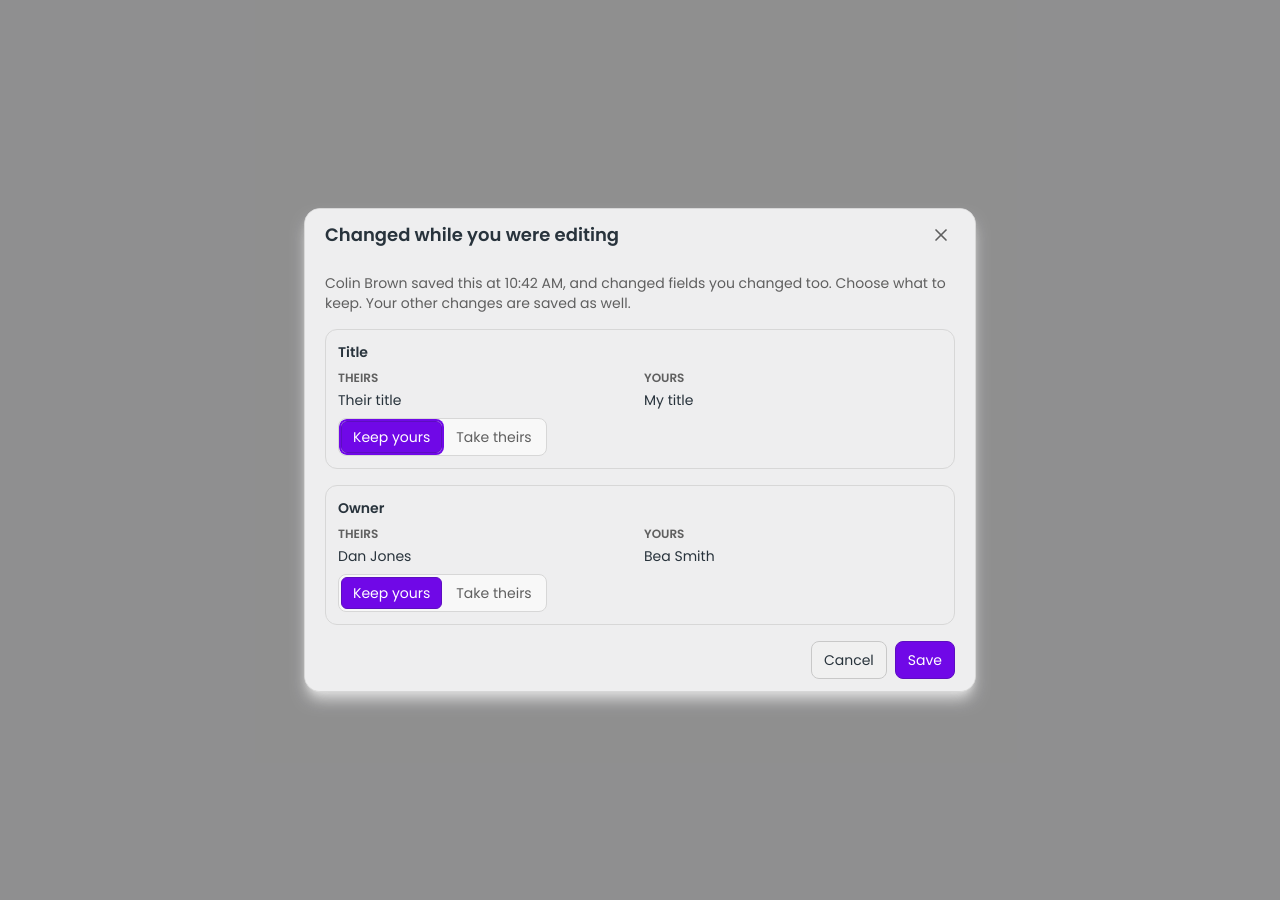
Test: EditConflictHost › asks per clashing field and saves what the person keeps
Expected: the text with test id "theirs-title" reads "Their title", [338, 390, 401, 410]
Expected: the text with test id "mine-title" reads "My title", [644, 390, 693, 410]
take theirs for the owner only
Click the radio button labelled "Take theirs" below "Dan Jones".
click(494, 593)  # box [444, 577, 544, 609]
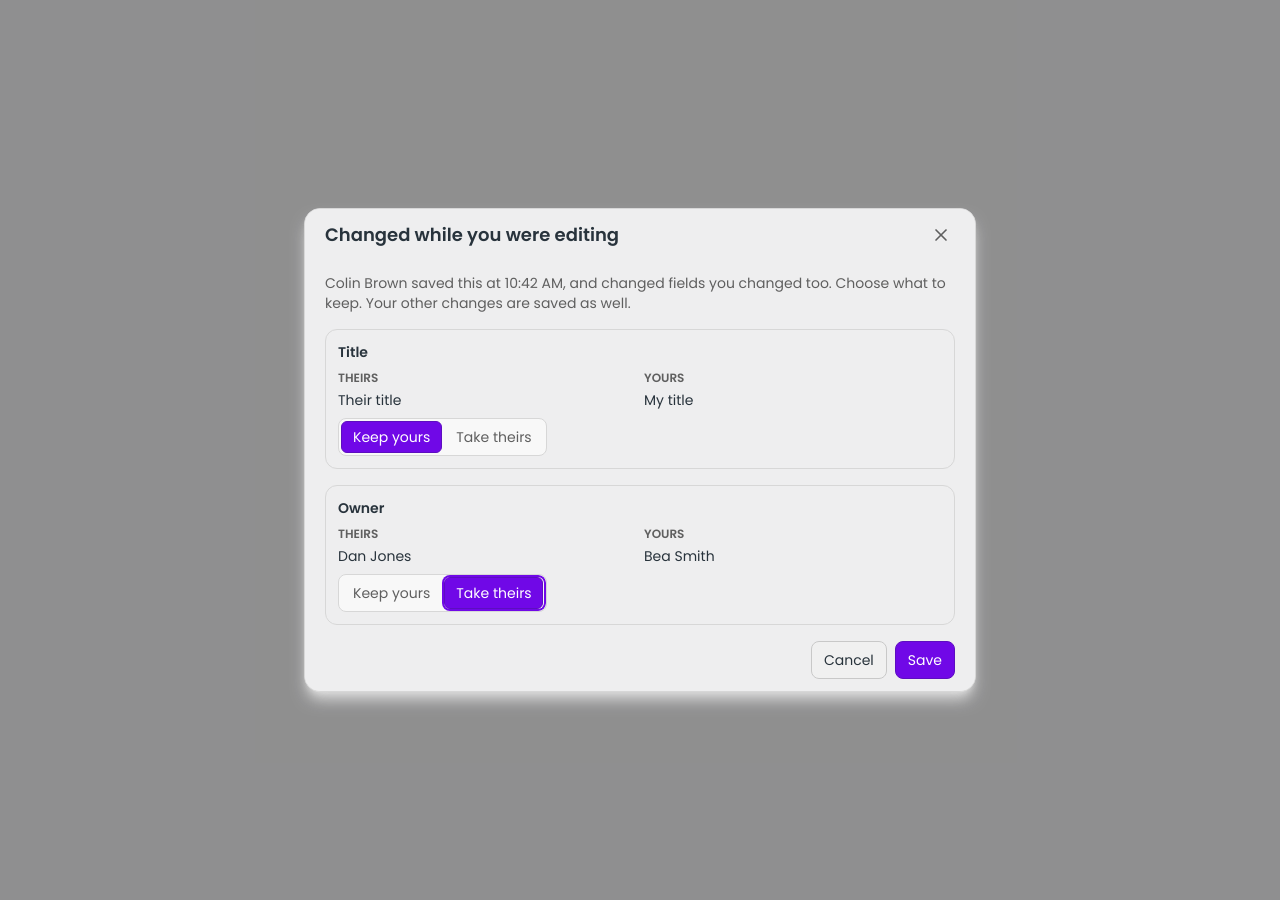
Click the button "Save".
click(925, 660)  # box [895, 641, 955, 679]
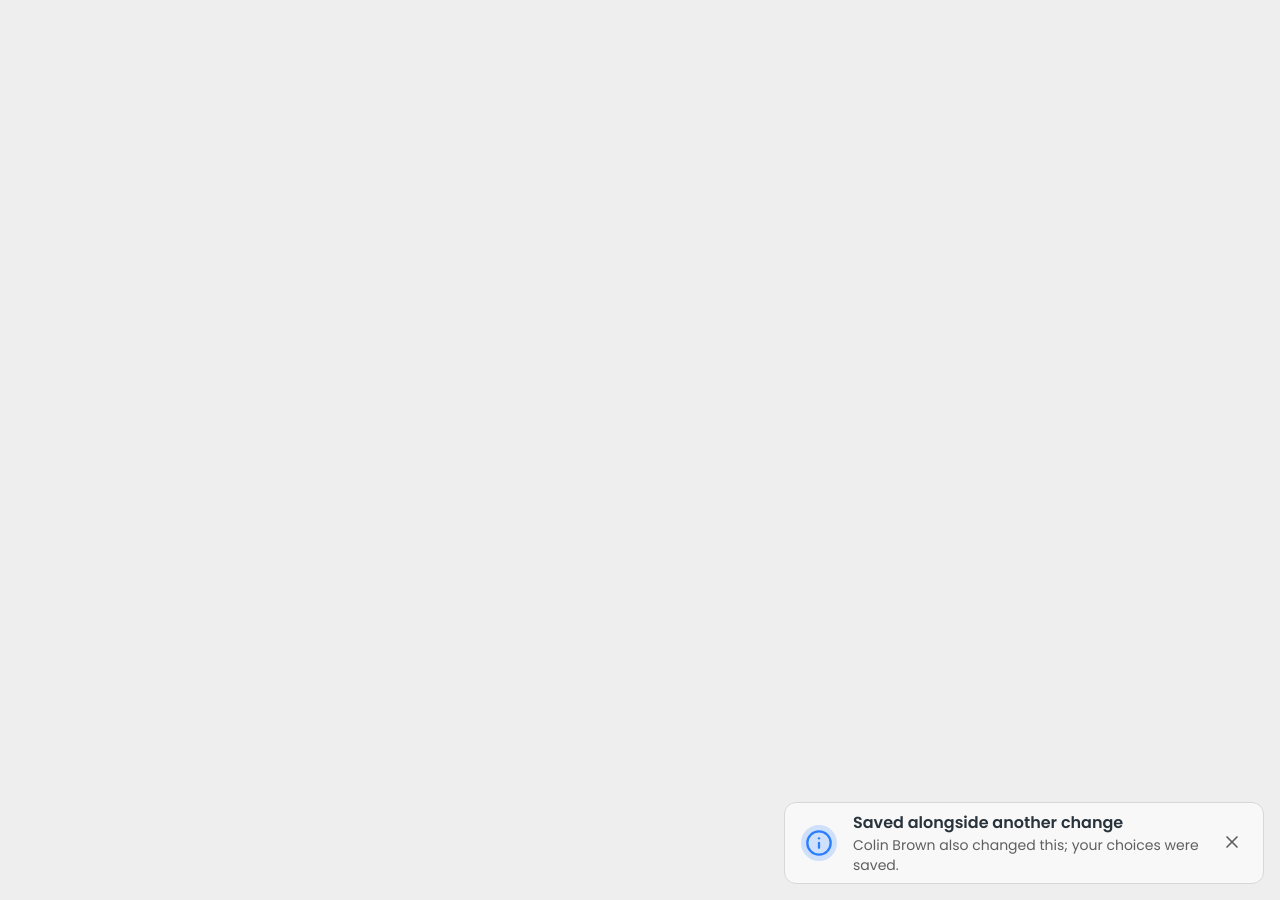
Expected: the text "Colin Brown also changed this; your choices were saved." is shown, [853, 835, 1201, 875]
